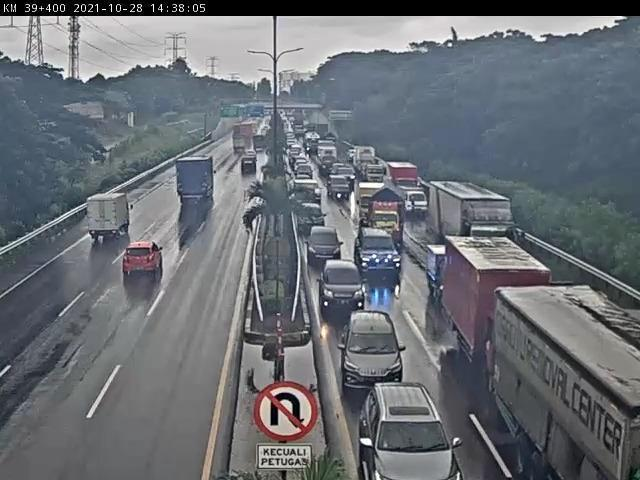car: (356, 378, 464, 480), (340, 315, 412, 399), (315, 250, 375, 318), (112, 235, 188, 283), (354, 230, 406, 290), (302, 220, 352, 268)
truck: (504, 298, 640, 480), (452, 236, 564, 368), (436, 188, 522, 256), (82, 188, 142, 248), (165, 158, 228, 202), (424, 248, 452, 304)
